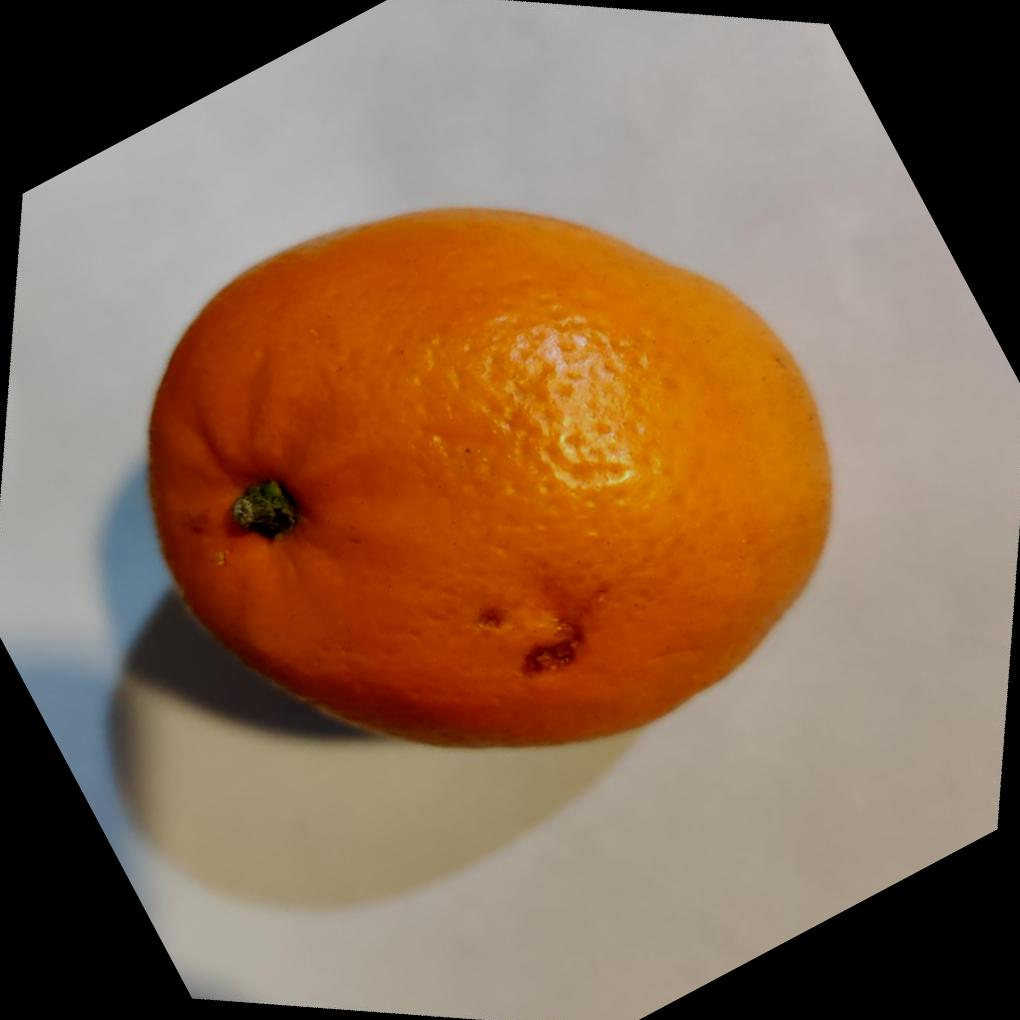FreshGuava: (147, 202, 839, 750)
